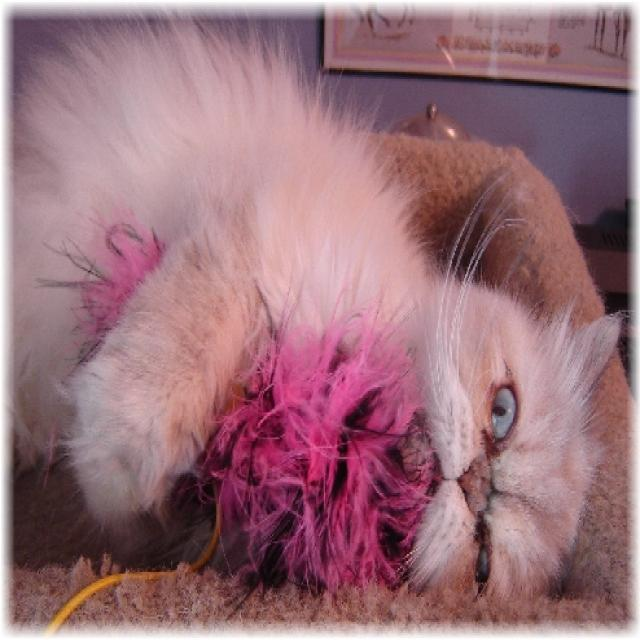Cats: (13, 16, 627, 602)
